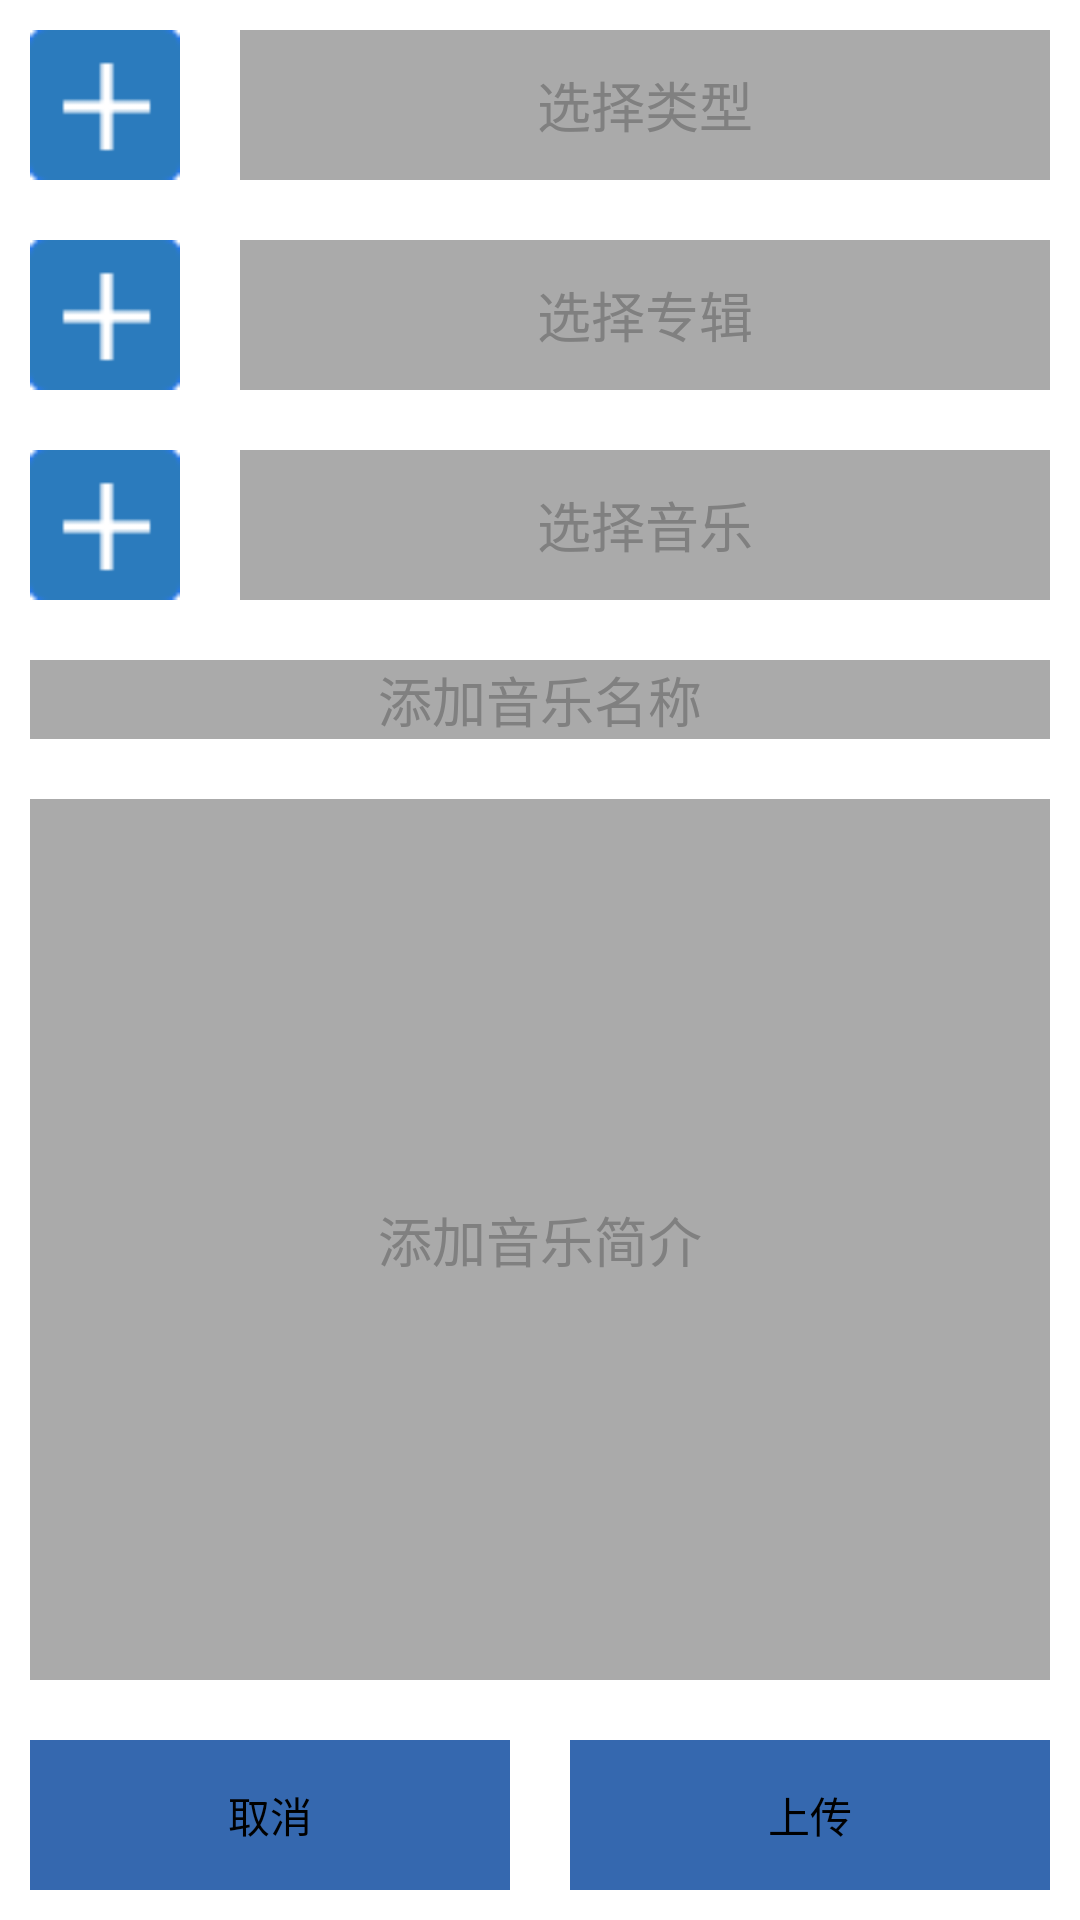

Icons on this 1080w x 1920h Android screen, each with the point to tap as (x=x, y=y):
fans add: (x=105, y=105), (x=105, y=315), (x=105, y=525)
